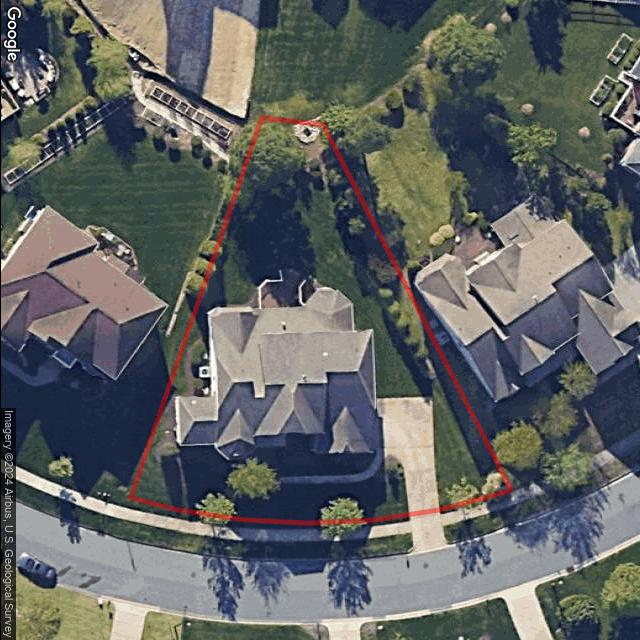Driveway: (374, 397, 440, 514)
Extra-Driveway: (409, 510, 449, 552)
Extra-Lawn: (114, 519, 413, 561), (127, 497, 409, 530), (442, 503, 521, 543), (440, 491, 507, 514)
Extra-Sidewalk: (120, 507, 410, 542), (439, 493, 513, 526)
House: (173, 286, 382, 461)
Lawn: (129, 117, 511, 523)
Other: (231, 118, 442, 376), (156, 396, 232, 485), (258, 268, 321, 308), (185, 337, 210, 400)
Sidewalk: (279, 452, 382, 484)
